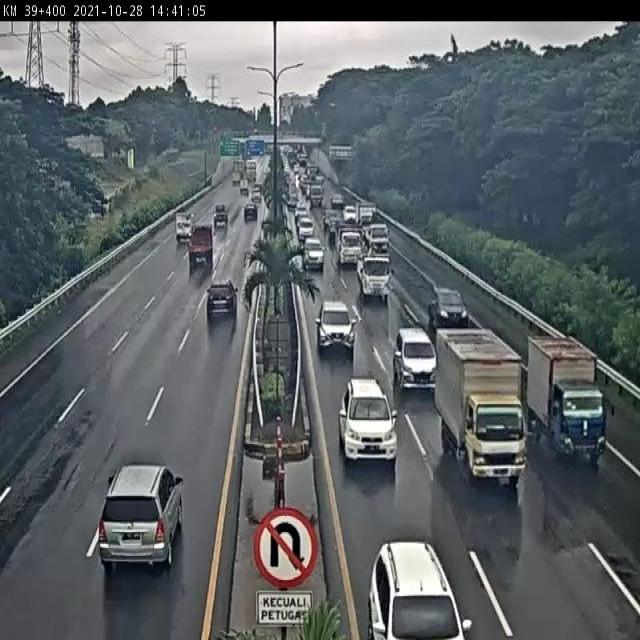car: (338, 377, 397, 464), (392, 326, 436, 391), (315, 297, 356, 356), (428, 286, 468, 326), (205, 276, 239, 319)
mid truck: (434, 327, 527, 482), (98, 461, 185, 567), (356, 251, 393, 304), (185, 223, 214, 264)
small truck: (525, 331, 606, 464)
